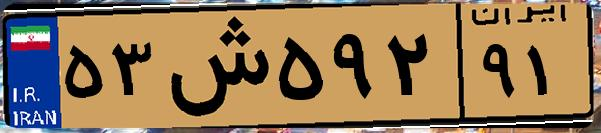1: (525, 38, 570, 115)
2: (385, 28, 445, 110)
3: (110, 28, 158, 98)
5: (270, 28, 330, 110), (57, 26, 110, 100)
9: (330, 28, 385, 110), (475, 38, 525, 113)
ش: (158, 12, 270, 120)
